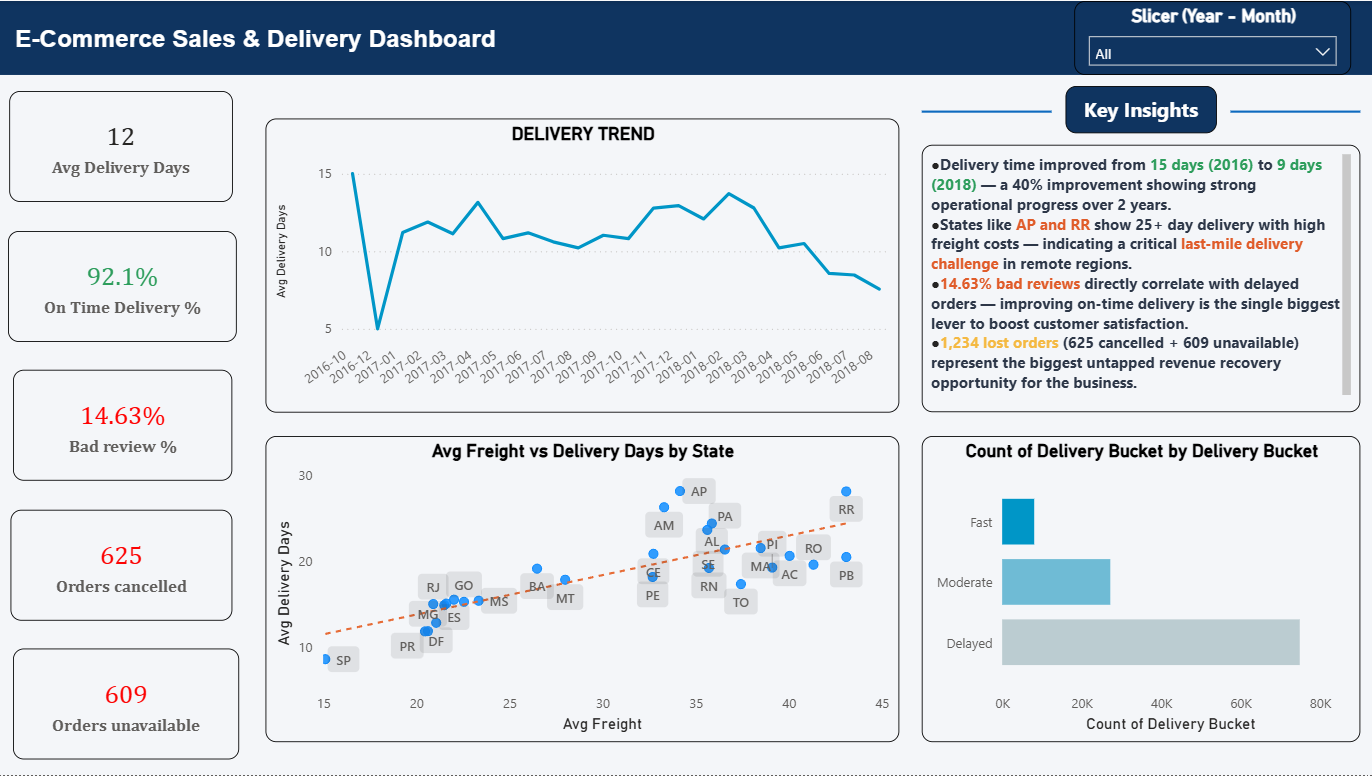

This screenshot's page, from the dashboard's own definition file:
{"tool":"powerbi","page":{"name":"Delivery","canvas":[1280,720],"ordinal":1},"visuals":[{"type":"card","fields":{"Values":["Date_Table.Avg Delivery Time"]},"box":[10.2,84.2,208.1,103.4],"z":0},{"type":"shape","box":[0,0,1279.9,69],"z":1000},{"type":"card","fields":{"Values":["Date_Table.On Time Delivery %"]},"box":[8.9,213.8,213.2,103.4],"z":2000},{"type":"card","fields":{"Values":["Date_Table.Bad review %"]},"box":[14,343.4,204.2,103.4],"z":3000},{"type":"card","fields":{"Values":["Date_Table.Orders cancelled"]},"box":[11.5,472.9,206.8,103.4],"z":4000},{"type":"card","fields":{"Values":["Date_Table.Orders unavailable %"]},"box":[14,602.5,210.6,103.4],"z":5000},{"type":"lineChart","title":"DELIVERY TREND","fields":{"Category":["Date_Table.Year-Month"],"Y":["Date_Table.Avg Delivery Days (Clean)"]},"box":[248.8,109.3,589.5,273.3],"z":6000},{"type":"slicer","title":"Slicer (Year - Month)","fields":{"Values":["Date_Table.Year-Month"]},"box":[1000.9,0,257.5,68.5],"z":7000},{"type":"scatterChart","title":"Avg Freight vs Delivery Days by State","fields":{"Y":["Date_Table.Avg Delivery Days"],"X":["Date_Table.Avg Freight"],"Category":["dim_customers.customer_state"]},"box":[248.8,404.7,589.5,284.9],"z":9000},{"type":"barChart","fields":{"Category":["fact_orders_final.Delivery Bucket"],"Y":["CountNonNull(fact_orders_final.Delivery Bucket)"]},"box":[859.3,404.7,408.1,284.9],"z":10000},{"type":"textbox","box":[993,79.1,140.7,44.2],"z":11000},{"type":"shape","box":[859.3,82.6,120.9,40.7],"z":12000},{"type":"textbox","box":[859.3,133.7,408.1,248.8],"z":13000},{"type":"shape","box":[1146.5,82.6,120.9,40.7],"z":14000}]}

Visuals, with their boxes in screenshot pixels (x1, y1, x2, y2), scaled from the page's 1280x720 canvas onto the 1372x776 screenshot:
card - Date_Table.Avg Delivery Time: bbox=[11, 91, 234, 202]
shape: bbox=[0, 0, 1371, 74]
card - Date_Table.On Time Delivery %: bbox=[10, 230, 238, 342]
card - Date_Table.Bad review %: bbox=[15, 370, 234, 482]
card - Date_Table.Orders cancelled: bbox=[12, 510, 234, 621]
card - Date_Table.Orders unavailable %: bbox=[15, 649, 241, 761]
"DELIVERY TREND" lineChart: bbox=[267, 118, 899, 412]
"Slicer (Year - Month)" slicer: bbox=[1073, 0, 1349, 74]
"Avg Freight vs Delivery Days by State" scatterChart: bbox=[267, 436, 899, 743]
barChart - fact_orders_final.Delivery Bucket x CountNonNull(fact_orders_final.Delivery Bucket): bbox=[921, 436, 1358, 743]
textbox: bbox=[1064, 85, 1215, 133]
shape: bbox=[921, 89, 1051, 133]
textbox: bbox=[921, 144, 1358, 412]
shape: bbox=[1229, 89, 1358, 133]
